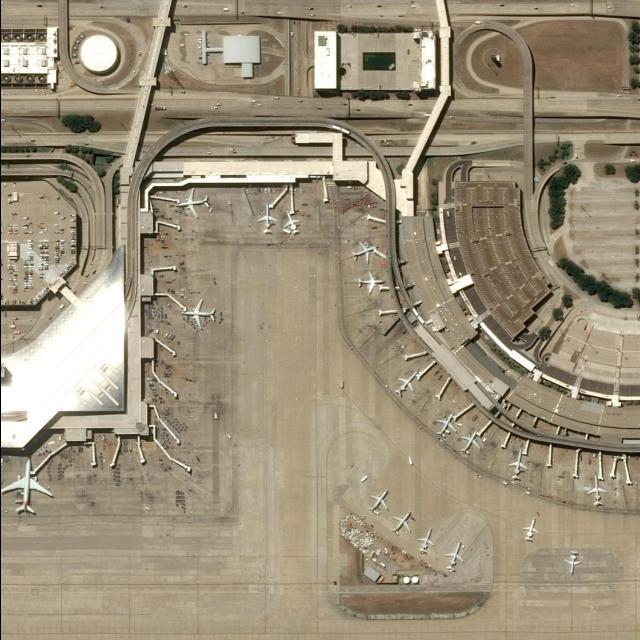Aircraft: (2, 461, 56, 519), (183, 298, 217, 331), (176, 187, 210, 219), (350, 239, 380, 265), (256, 205, 280, 237), (356, 270, 386, 294), (586, 474, 607, 506), (507, 452, 529, 482), (433, 413, 458, 439), (459, 429, 482, 457), (392, 374, 418, 398), (446, 541, 465, 571), (368, 491, 390, 516), (281, 211, 303, 236), (417, 530, 436, 557), (563, 552, 582, 576), (393, 512, 412, 536), (522, 520, 541, 542)
